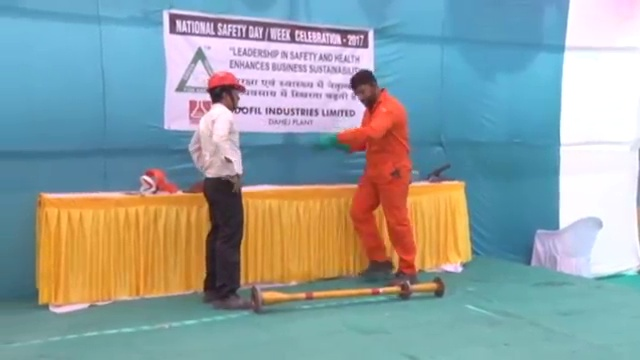helmet: (207, 71, 247, 92)
helmet_off: (350, 69, 379, 109)
helmet_on: (204, 71, 248, 114)
person: (334, 69, 419, 285), (186, 71, 256, 309)
